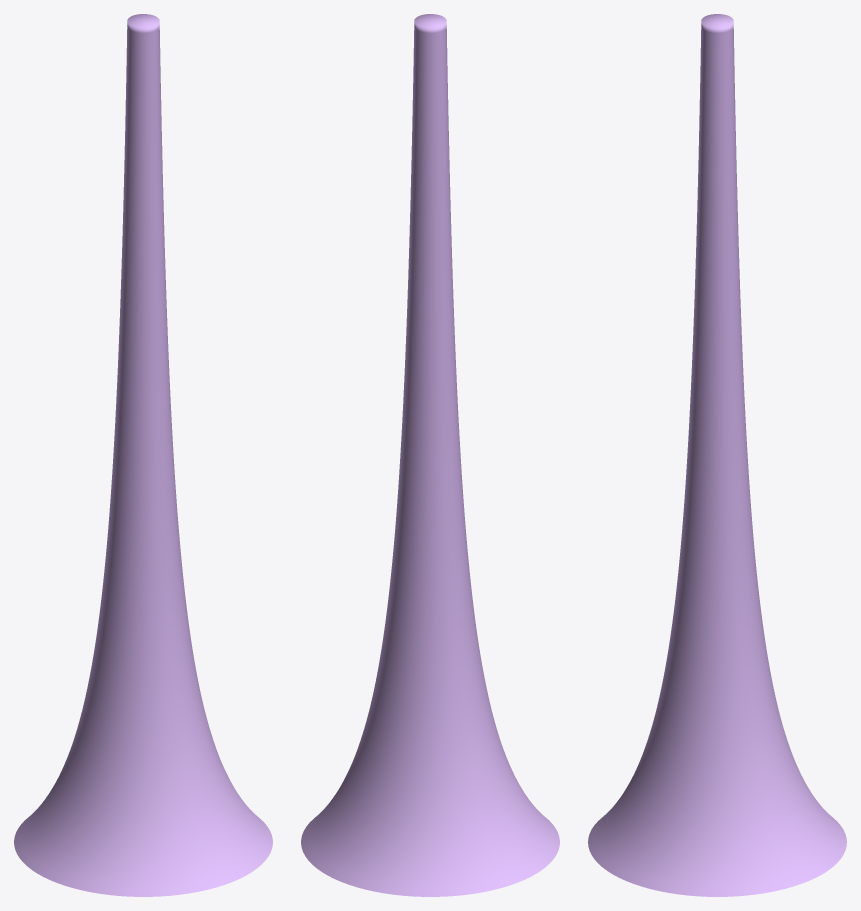
Rendered from salpigga.glb.
The picture shows the model from 3 angles, left to right: view 1: azimuth 30°, elevation 25°; view 2: azimuth 150°, elevation 25°; view 3: azimuth 270°, elevation 25°; orthographic projection.
Visible parts, largest first — view 1: salpigga; view 2: salpigga; view 3: salpigga.
Part boxes in pixels (<box>): salpigga: <box>14,14,272,896</box>; salpigga: <box>301,14,559,896</box>; salpigga: <box>588,14,846,896</box>.
Size of the model in its own units: 0.0901 by 0.3152 by 0.0901.
